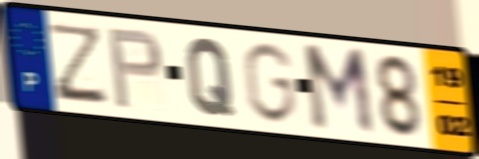8: (373, 52, 423, 140)
G: (240, 40, 299, 126)
M: (300, 42, 379, 140)
P: (105, 27, 166, 112)
Q: (184, 35, 236, 119)
Z: (49, 20, 109, 106)
